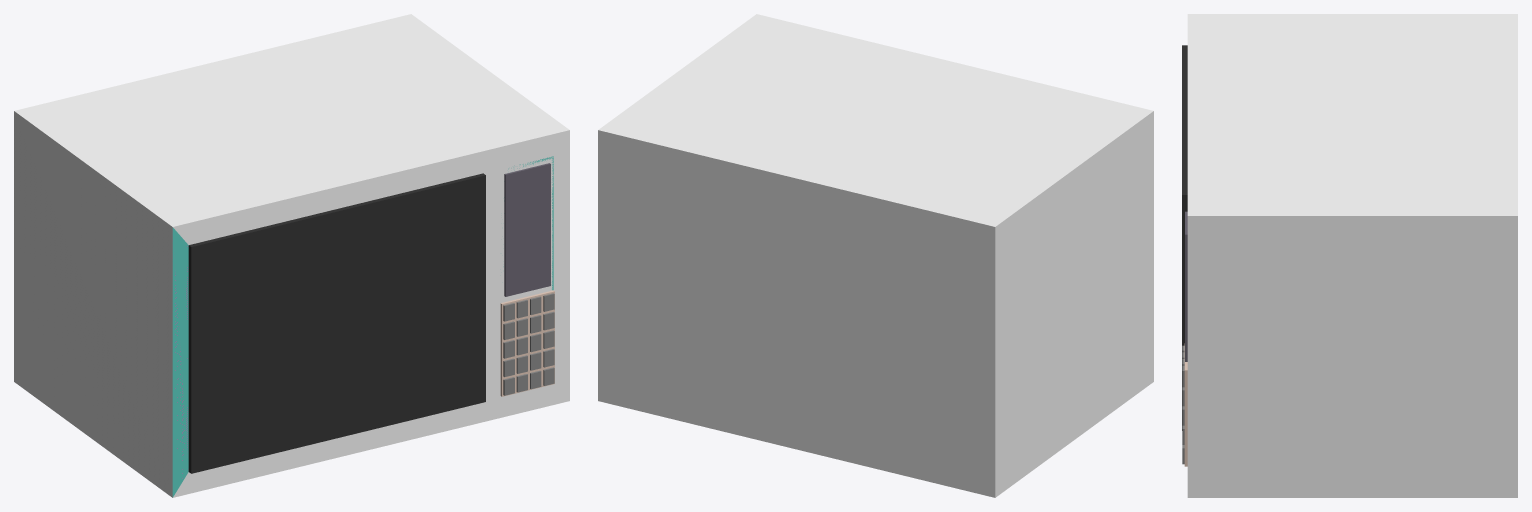
Rendered from Res01_Oven.fbx.
3 renders of one model, left to right at view 1: azimuth 30°, elevation 25°; view 2: azimuth 150°, elevation 25°; view 3: azimuth 270°, elevation 25°, orthographic. The views are drawn at different scales.
Parts seen in each view (by area): view 1: Res01_Oven; view 2: Res01_Oven; view 3: Res01_Oven.
Part boxes in pixels (bbox=[...]): Res01_Oven: bbox=[14, 14, 569, 497]; Res01_Oven: bbox=[598, 14, 1153, 497]; Res01_Oven: bbox=[1182, 14, 1517, 497].
Bounding box in the file's own units: 148 × 96.42 × 104.
